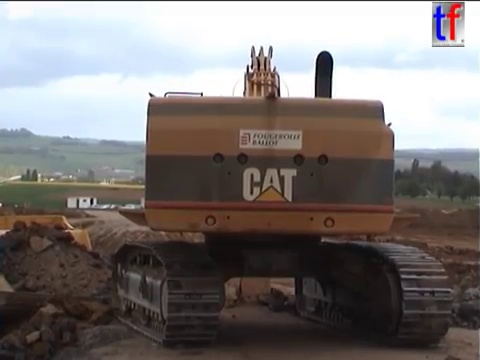excavator: (104, 41, 458, 351)
truck: (1, 210, 124, 360)
